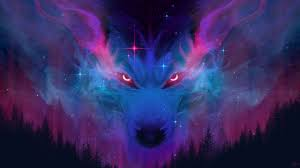Lobo: (47, 7, 245, 149)
